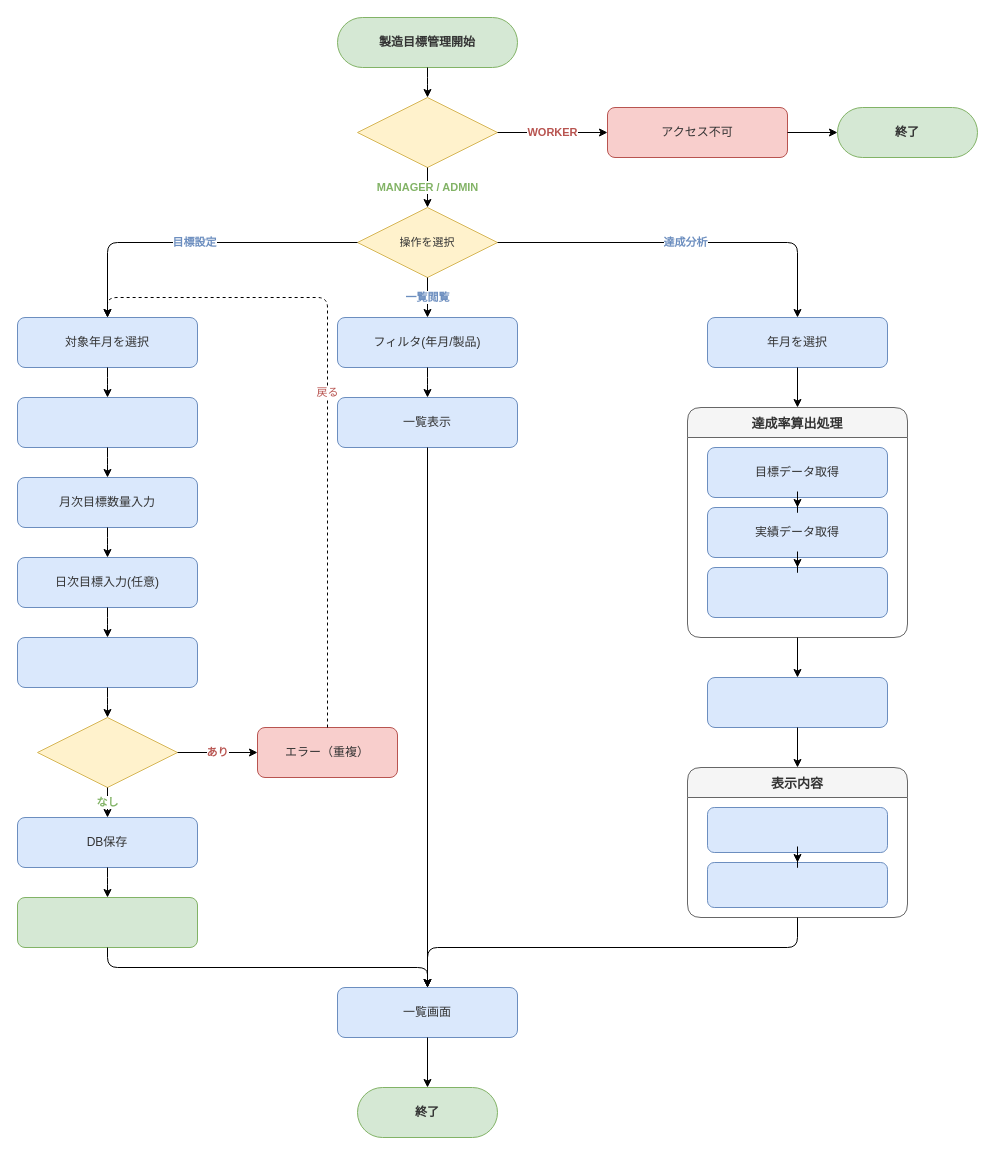
This 995x1155 diagram has some shape labels left out. Here are the shapes that lost their labels. From the top down, the centre of each, then its label:
At [427,132]: "ユーザーロールは？".
At [107,422]: "製品を選択".
At [797,592]: "達成率 = 実績/目標×100".
At [107,662]: "保存ボタン押下".
At [797,702]: "分析結果表示".
At [107,752]: "同月・同製品の 目標は既存？".
At [797,829]: "製品別テーブル".
At [797,885]: "目標vs実績 棒グラフ".
At [107,922]: "設定完了".
